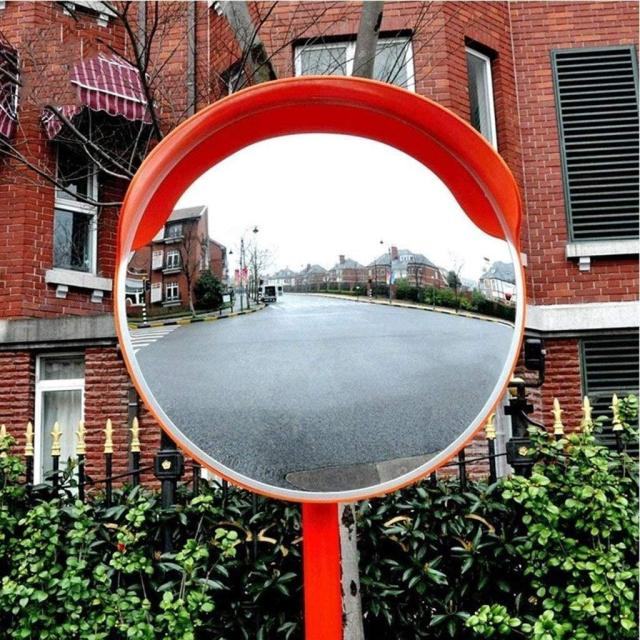other: (222, 153, 404, 242)
